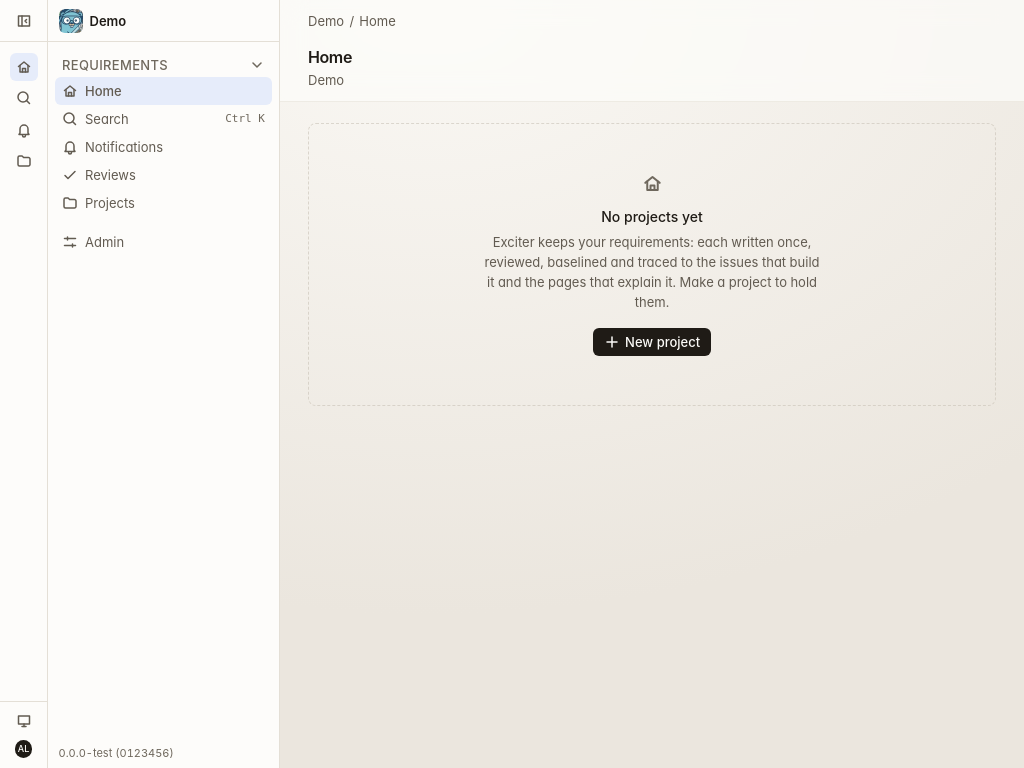
Test: the themes page › lists what is shared, offers import, and is reached from the account menu
The width and height of the screenshot is (1024, 768).
Expected: the text "No projects yet" is shown, [601,206,703,227]
Click the button with aria-label "Your account".
click(24, 749)  # box [11,736,36,761]
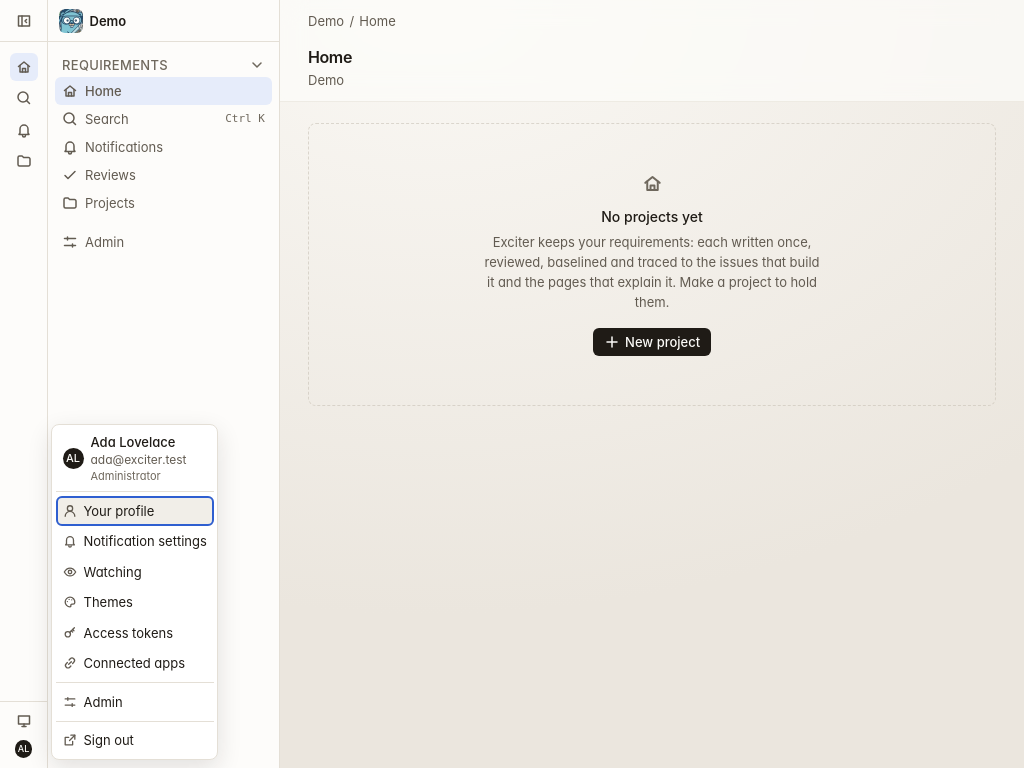
Click the menu item "Themes".
click(135, 602)  # box [56,587,214,618]
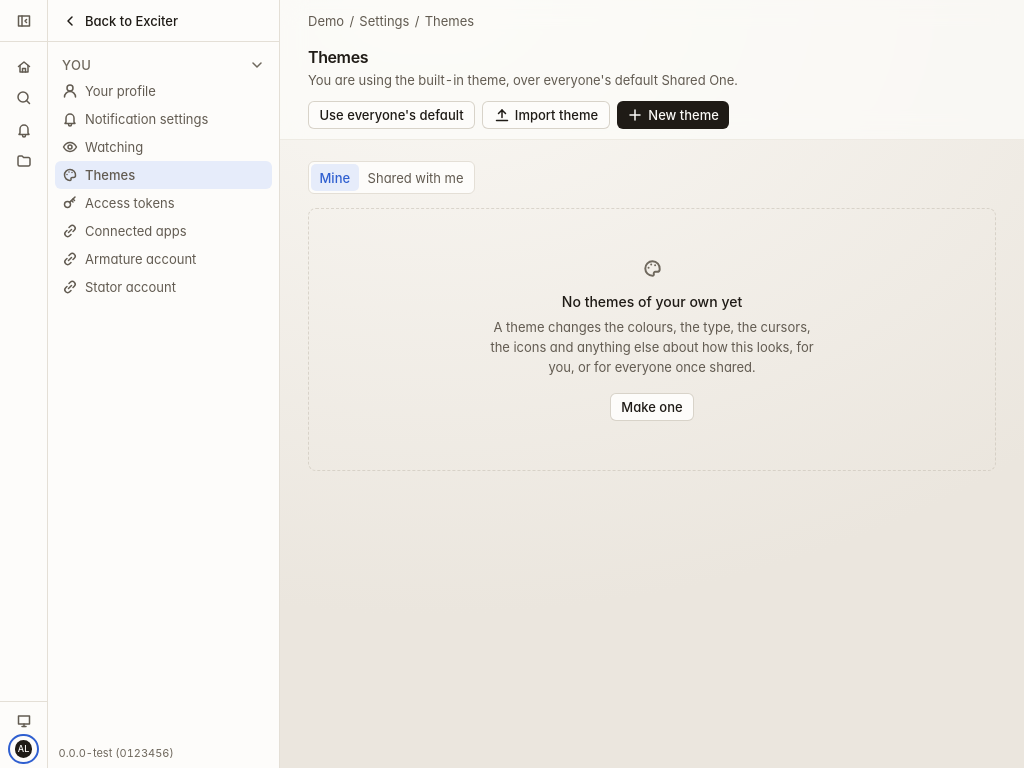
Now the heading "Themes" is shown, box [308,46,368,66]
Now the text "You are using the built-in theme, over everyone's default Shared One." is shown, box [308,70,738,90]
Now the button "Import theme" is shown, box [482,101,610,129]
Click the button "Shared with me".
click(416, 178)  # box [359,164,472,191]
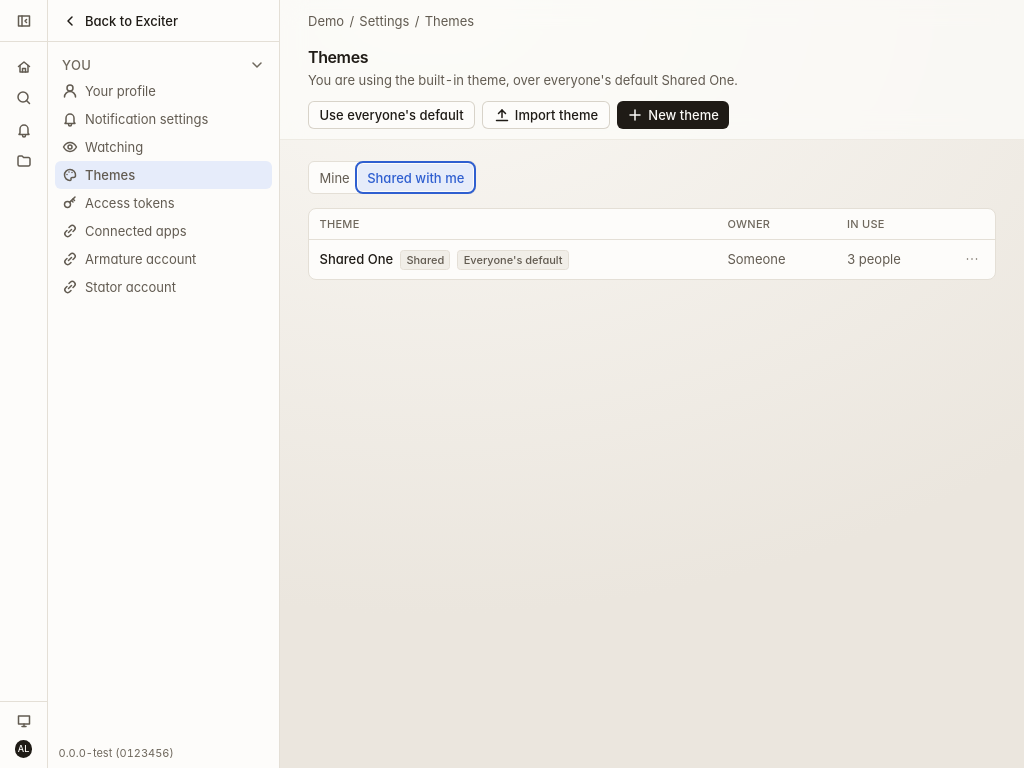
Now the text "3 people" is shown, box [836,239,950,279]
